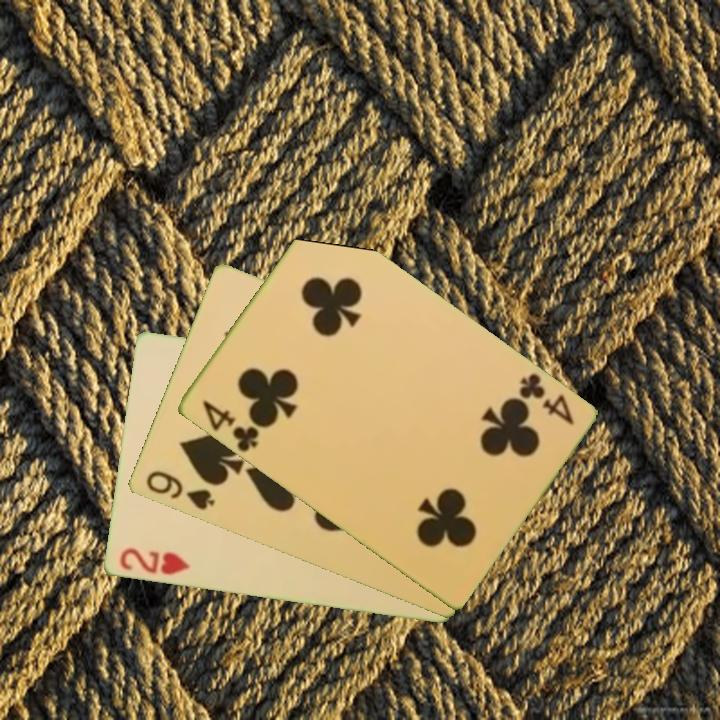2h: (115, 544, 192, 579)
4c: (198, 396, 264, 455), (514, 369, 577, 428)
9s: (142, 467, 217, 514)
